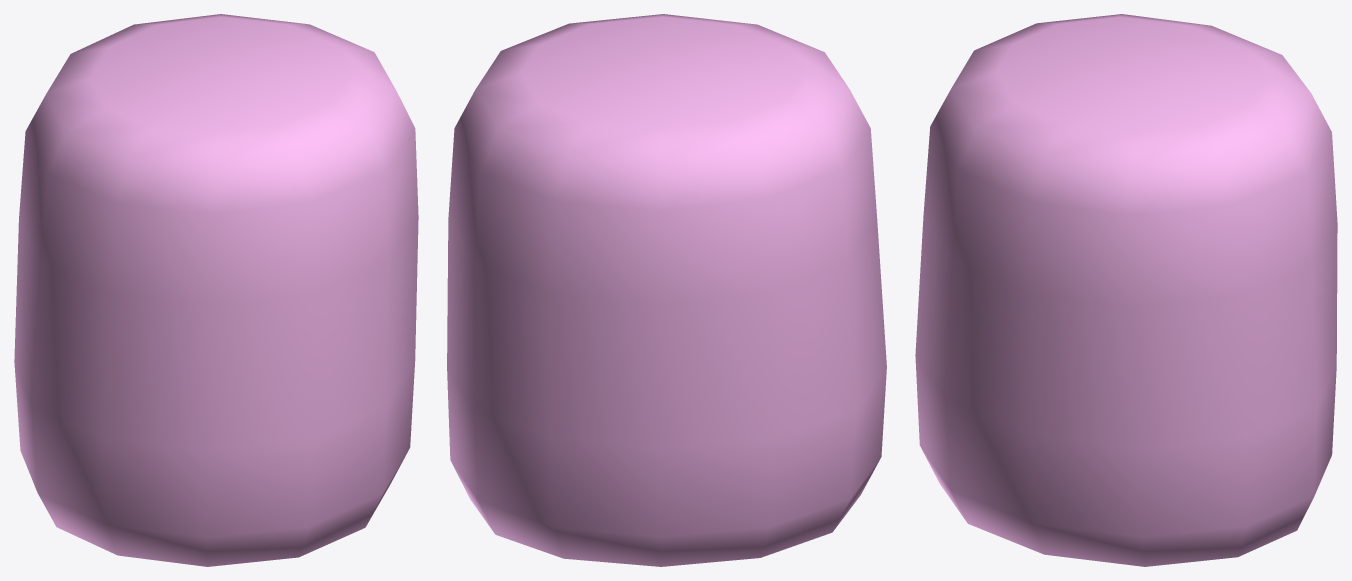
Rendered from Marshmallow_08.glb.
3 renders of one model, left to right at view 1: azimuth 30°, elevation 25°; view 2: azimuth 150°, elevation 25°; view 3: azimuth 270°, elevation 25°, orthographic. The views are drawn at different scales.
Parts seen in each view (by area): view 1: Marshmallow_08; view 2: Marshmallow_08; view 3: Marshmallow_08.
Part boxes in pixels (x1,y1,x2,y2): Marshmallow_08: [14, 14, 418, 566]; Marshmallow_08: [447, 14, 886, 566]; Marshmallow_08: [915, 14, 1337, 566].
Size of the model in its own units: 1.1 by 1.22 by 1.08.
Materials: 1 (1 with a texture image).
